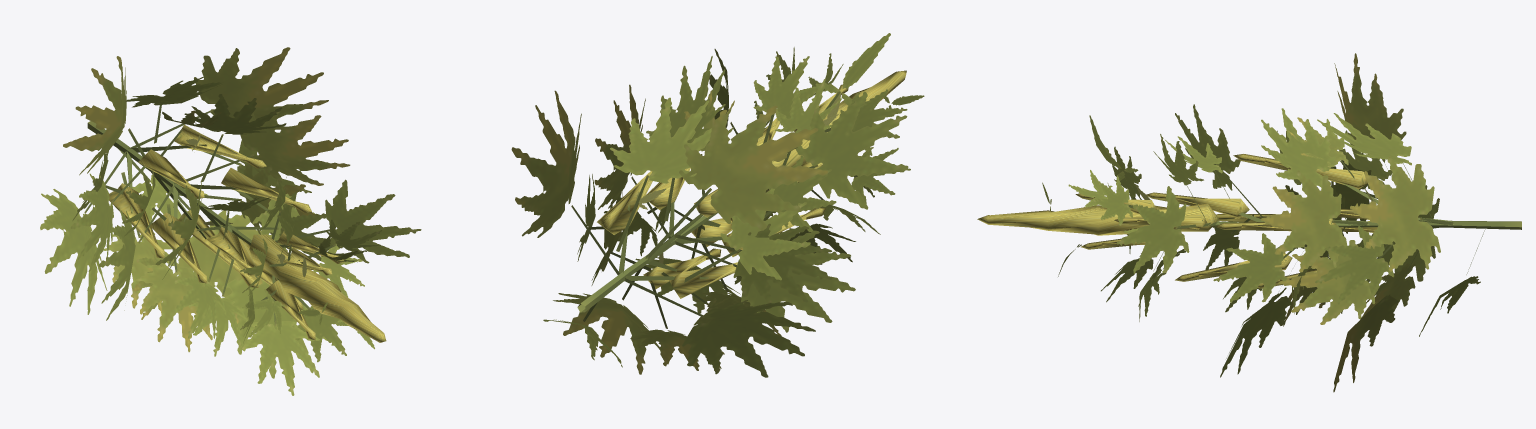
Rendered from p_gold_haze_ripe_c1_cards.obj.
The picture shows the model from 3 angles, left to right: view 1: azimuth 30°, elevation 25°; view 2: azimuth 150°, elevation 25°; view 3: azimuth 270°, elevation 25°; orthographic projection. The views are drawn at different scales.
Bounding box in the file's own units: 1.41 × 1.38 × 2.03.
1 material, 1 textured.
